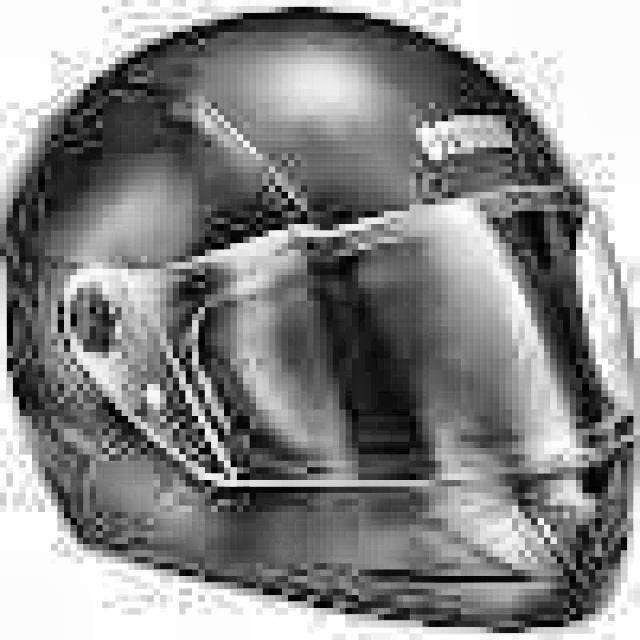Helmet: (18, 3, 640, 640)
